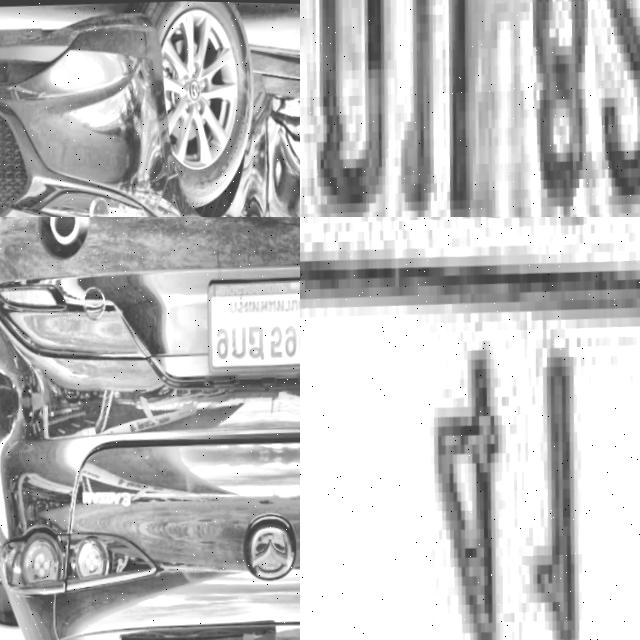license-plate: (300, 217, 640, 640), (300, 0, 640, 217), (199, 265, 300, 385)
